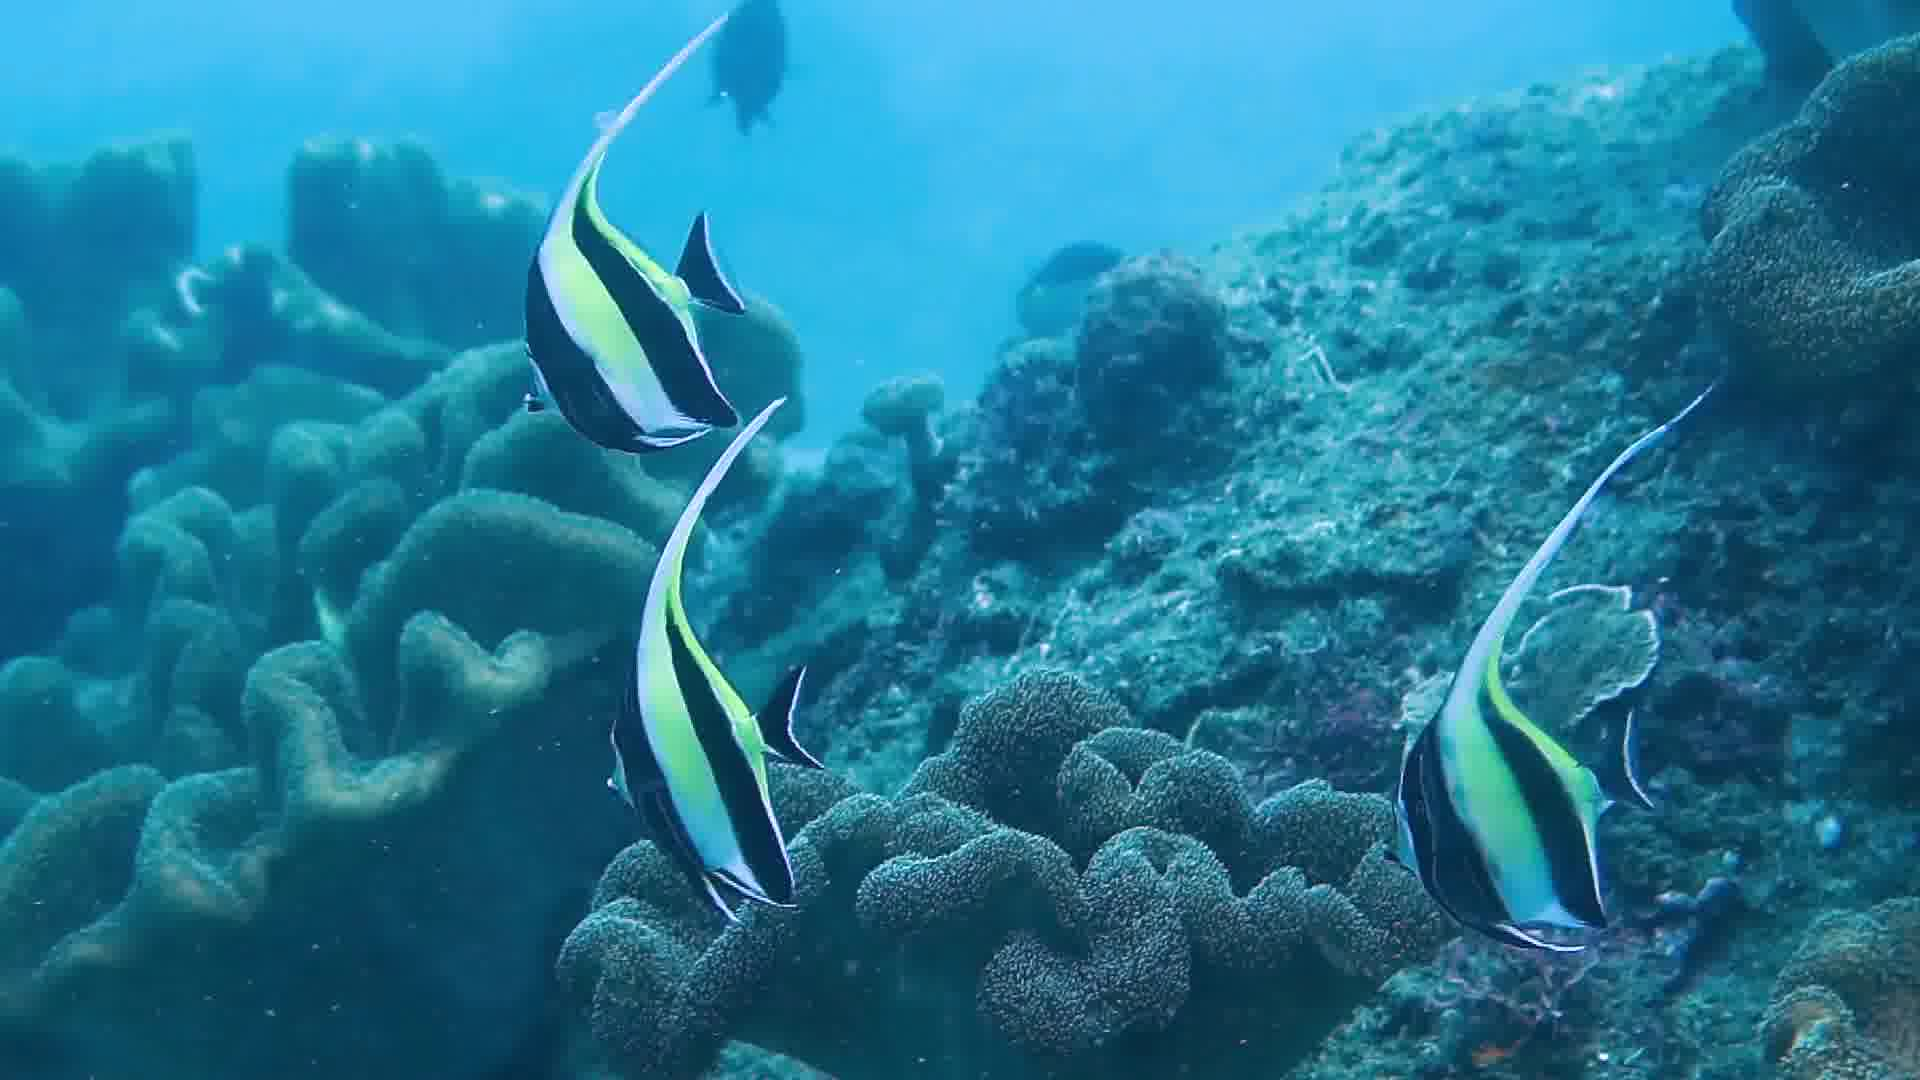Zanclus cornutus: (1364, 597, 1662, 964), (498, 113, 796, 480), (587, 554, 884, 920)
